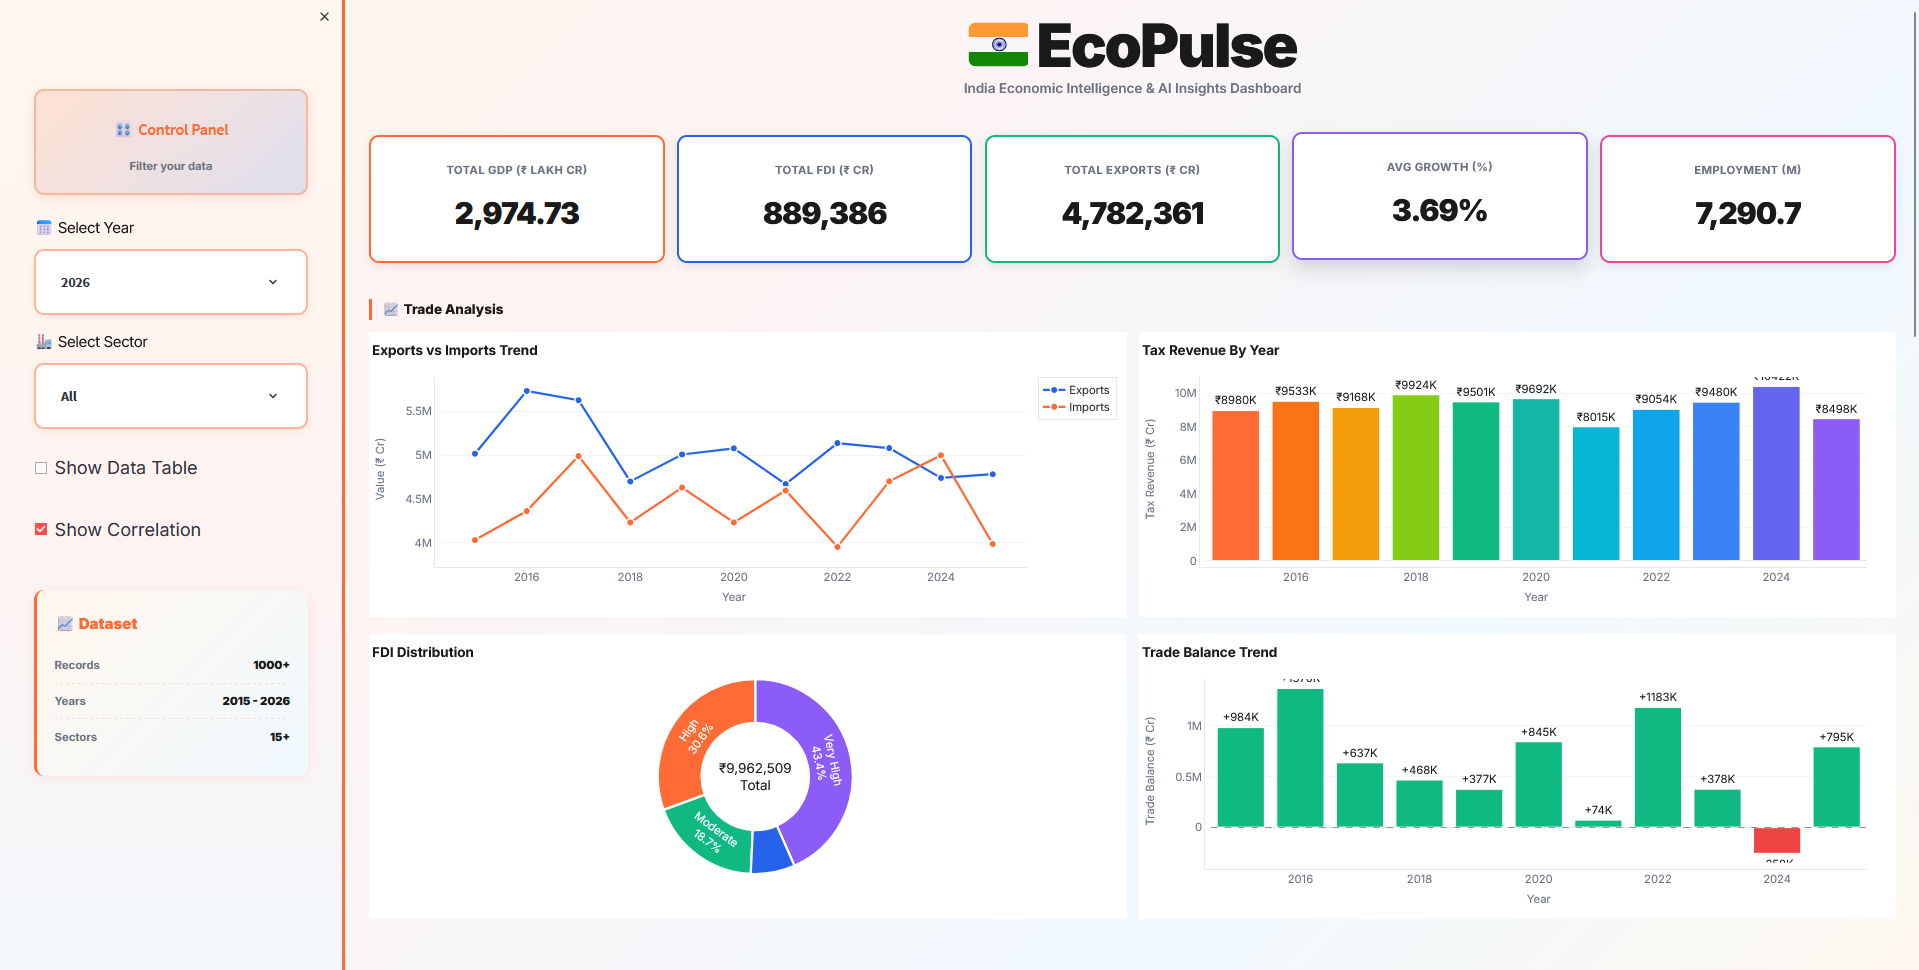

The dashboard page shown, as its layout file describes it:
{"tool":"powerbi","page":{"name":"Page 2","canvas":[1280,720],"ordinal":1},"visuals":[{"type":"cardVisual","fields":{"Data":["Data Dictionary.Total Imports"]},"box":[31.4,87.1,280,145.7],"z":0},{"type":"cardVisual","fields":{"Data":["Data Dictionary.Total FDI"]},"box":[344.3,87.1,278.6,145.7],"z":1000},{"type":"cardVisual","fields":{"Data":["Data Dictionary.Total Tax Revenue"]},"box":[660,87.1,278.6,145.7],"z":2000},{"type":"cardVisual","fields":{"Data":["Data Dictionary.Trade Balance"]},"box":[968.6,87.1,280,145.7],"z":3000},{"type":"textbox","box":[80,0,1200,210],"z":4000},{"type":"lineChart","title":"Exports vs Imports Trend","fields":{"Category":["Economic_Data.Financial_Year"],"Y":["Sum(Economic_Data.Exports_Crore)","Sum(Economic_Data.Imports_Crore)"]},"box":[31.4,248.6,291.4,178.6],"z":5000},{"type":"donutChart","title":"FDI Distribution","fields":{"Category":["Economic_Data.FDI_Category"],"Y":["Sum(Economic_Data.FDI_Crore)"]},"box":[650,248.6,288.6,175.7],"z":6000},{"type":"clusteredColumnChart","title":"Tax Revenue By Year","fields":{"Category":["Economic_Data.Financial_Year"],"Y":["Sum(Economic_Data.Tax_Revenue_Crore)"]},"box":[345.7,248.6,279,179],"z":7000},{"type":"waterfallChart","title":"Trade Balance Trend","fields":{"Category":["Economic_Data.Financial_Year"],"Y":["Sum(Economic_Data.Trade_Balance_Crore)"]},"box":[31.4,458.6,465.7,240],"z":8000},{"type":"lineClusteredColumnComboChart","title":"Trade & Investment Overview","fields":{"Y":["Data Dictionary.Total FDI","Data Dictionary.Total Imports","Data Dictionary.Total Exports","Sum(Economic_Data.Imports_Crore)","Sum(Economic_Data.Exports_Crore)"]},"box":[970,250,278.6,175.7],"z":9000},{"type":"pivotTable","title":"GDP Overview By Category","fields":{"Rows":["Economic_Data.GDP_Category"],"Values":["Data Dictionary.Total GDP"],"Columns":["Economic_Data.Sector_Category"]},"box":[534.3,458.6,404.3,240],"z":10000},{"type":"barChart","title":"Macroeconomic Indicators","fields":{"Y":["Data Dictionary.Average IIP","Data Dictionary.Average Inflation %","Data Dictionary.Average CPI"]},"box":[970,458.6,278.6,240],"z":11000}]}

Visuals, with their boxes on the page's 1280x720 design canvas (x1, y1, x2, y2). These are canvas units, not pixel positions in the 1919x970 screenshot, which may show the page scaled, cropped or inside an application window:
cardVisual - Data Dictionary.Total Imports: crop(31, 87, 311, 233)
cardVisual - Data Dictionary.Total FDI: crop(344, 87, 623, 233)
cardVisual - Data Dictionary.Total Tax Revenue: crop(660, 87, 939, 233)
cardVisual - Data Dictionary.Trade Balance: crop(969, 87, 1249, 233)
textbox: crop(80, 0, 1280, 210)
"Exports vs Imports Trend" lineChart: crop(31, 249, 323, 427)
"FDI Distribution" donutChart: crop(650, 249, 939, 424)
"Tax Revenue By Year" clusteredColumnChart: crop(346, 249, 625, 428)
"Trade Balance Trend" waterfallChart: crop(31, 459, 497, 699)
"Trade & Investment Overview" lineClusteredColumnComboChart: crop(970, 250, 1249, 426)
"GDP Overview By Category" pivotTable: crop(534, 459, 939, 699)
"Macroeconomic Indicators" barChart: crop(970, 459, 1249, 699)
